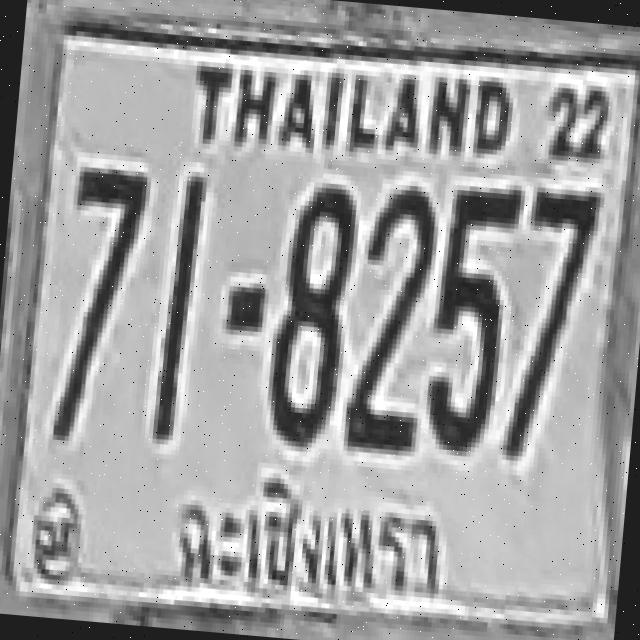1: (155, 172, 207, 406)
2: (345, 182, 437, 428), (347, 179, 438, 406)
5: (419, 181, 521, 451)
7: (500, 181, 599, 461), (49, 160, 148, 440), (55, 162, 148, 416), (510, 182, 599, 436), (62, 164, 148, 332), (522, 184, 599, 343)
8: (264, 180, 358, 444)
Chachoengsao: (166, 458, 457, 617)
